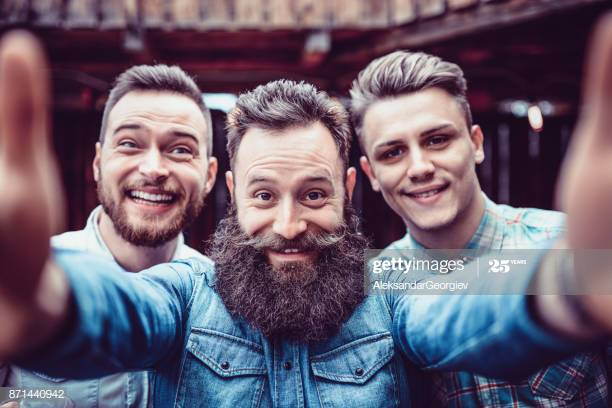bare: (234, 210, 346, 294), (98, 156, 205, 243), (373, 158, 481, 230)
